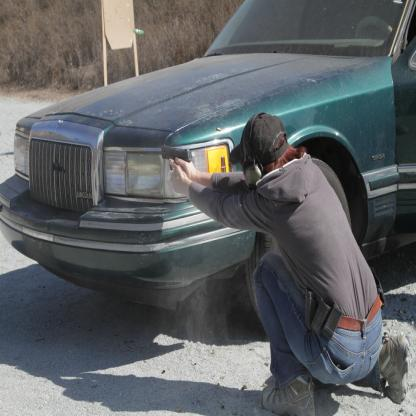Car: (1, 1, 416, 331)
